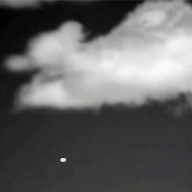Target: (59, 157, 67, 163)
